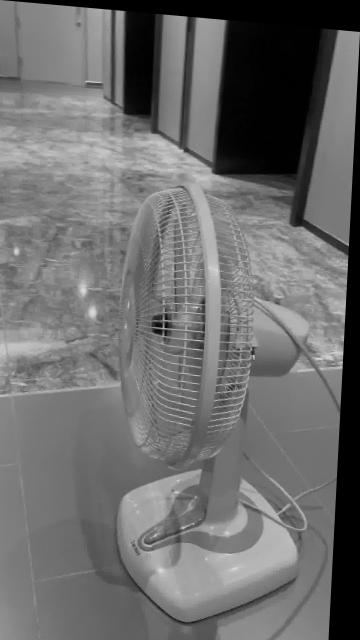Fan: (122, 179, 313, 621)
